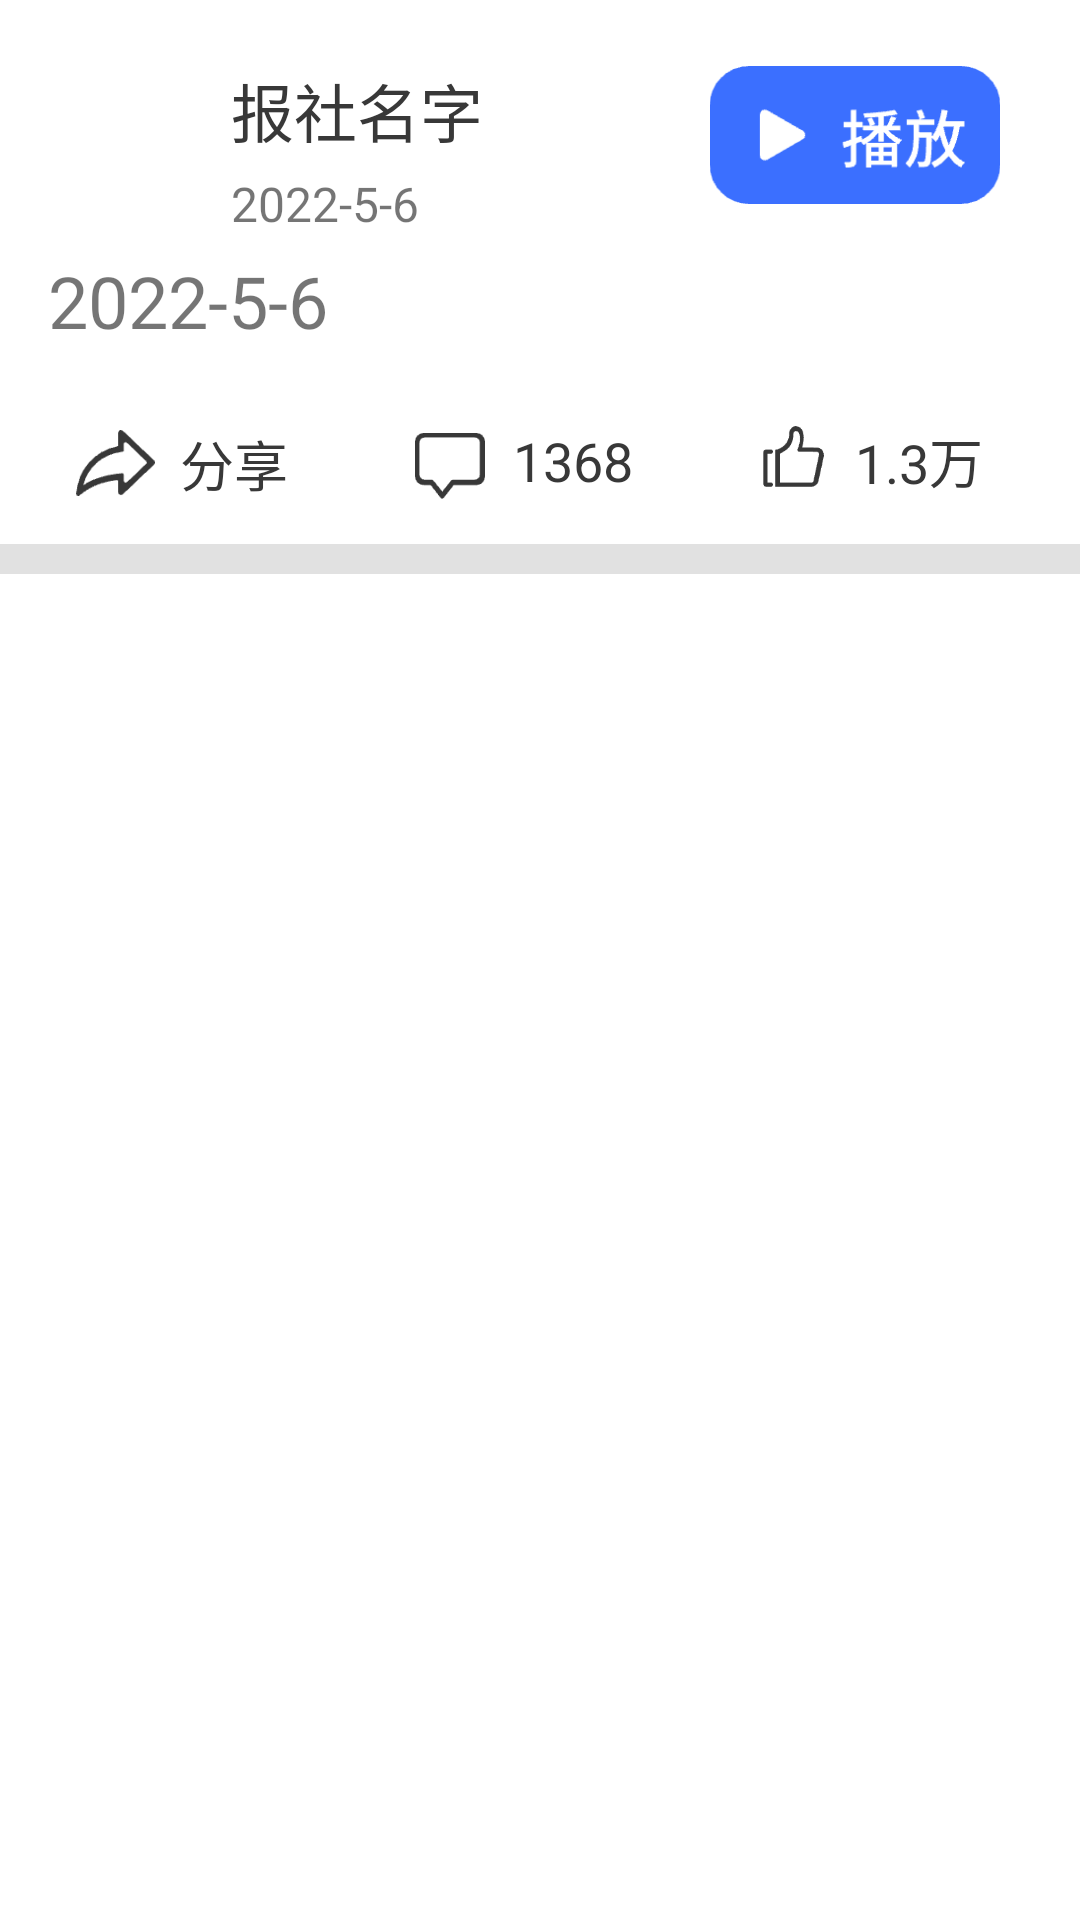

Point at icon controls on the screen. Image size 1080 × 1920, points as (x,y).
comments: (450,466)
like: (793,456)
transmit: (115,463)
